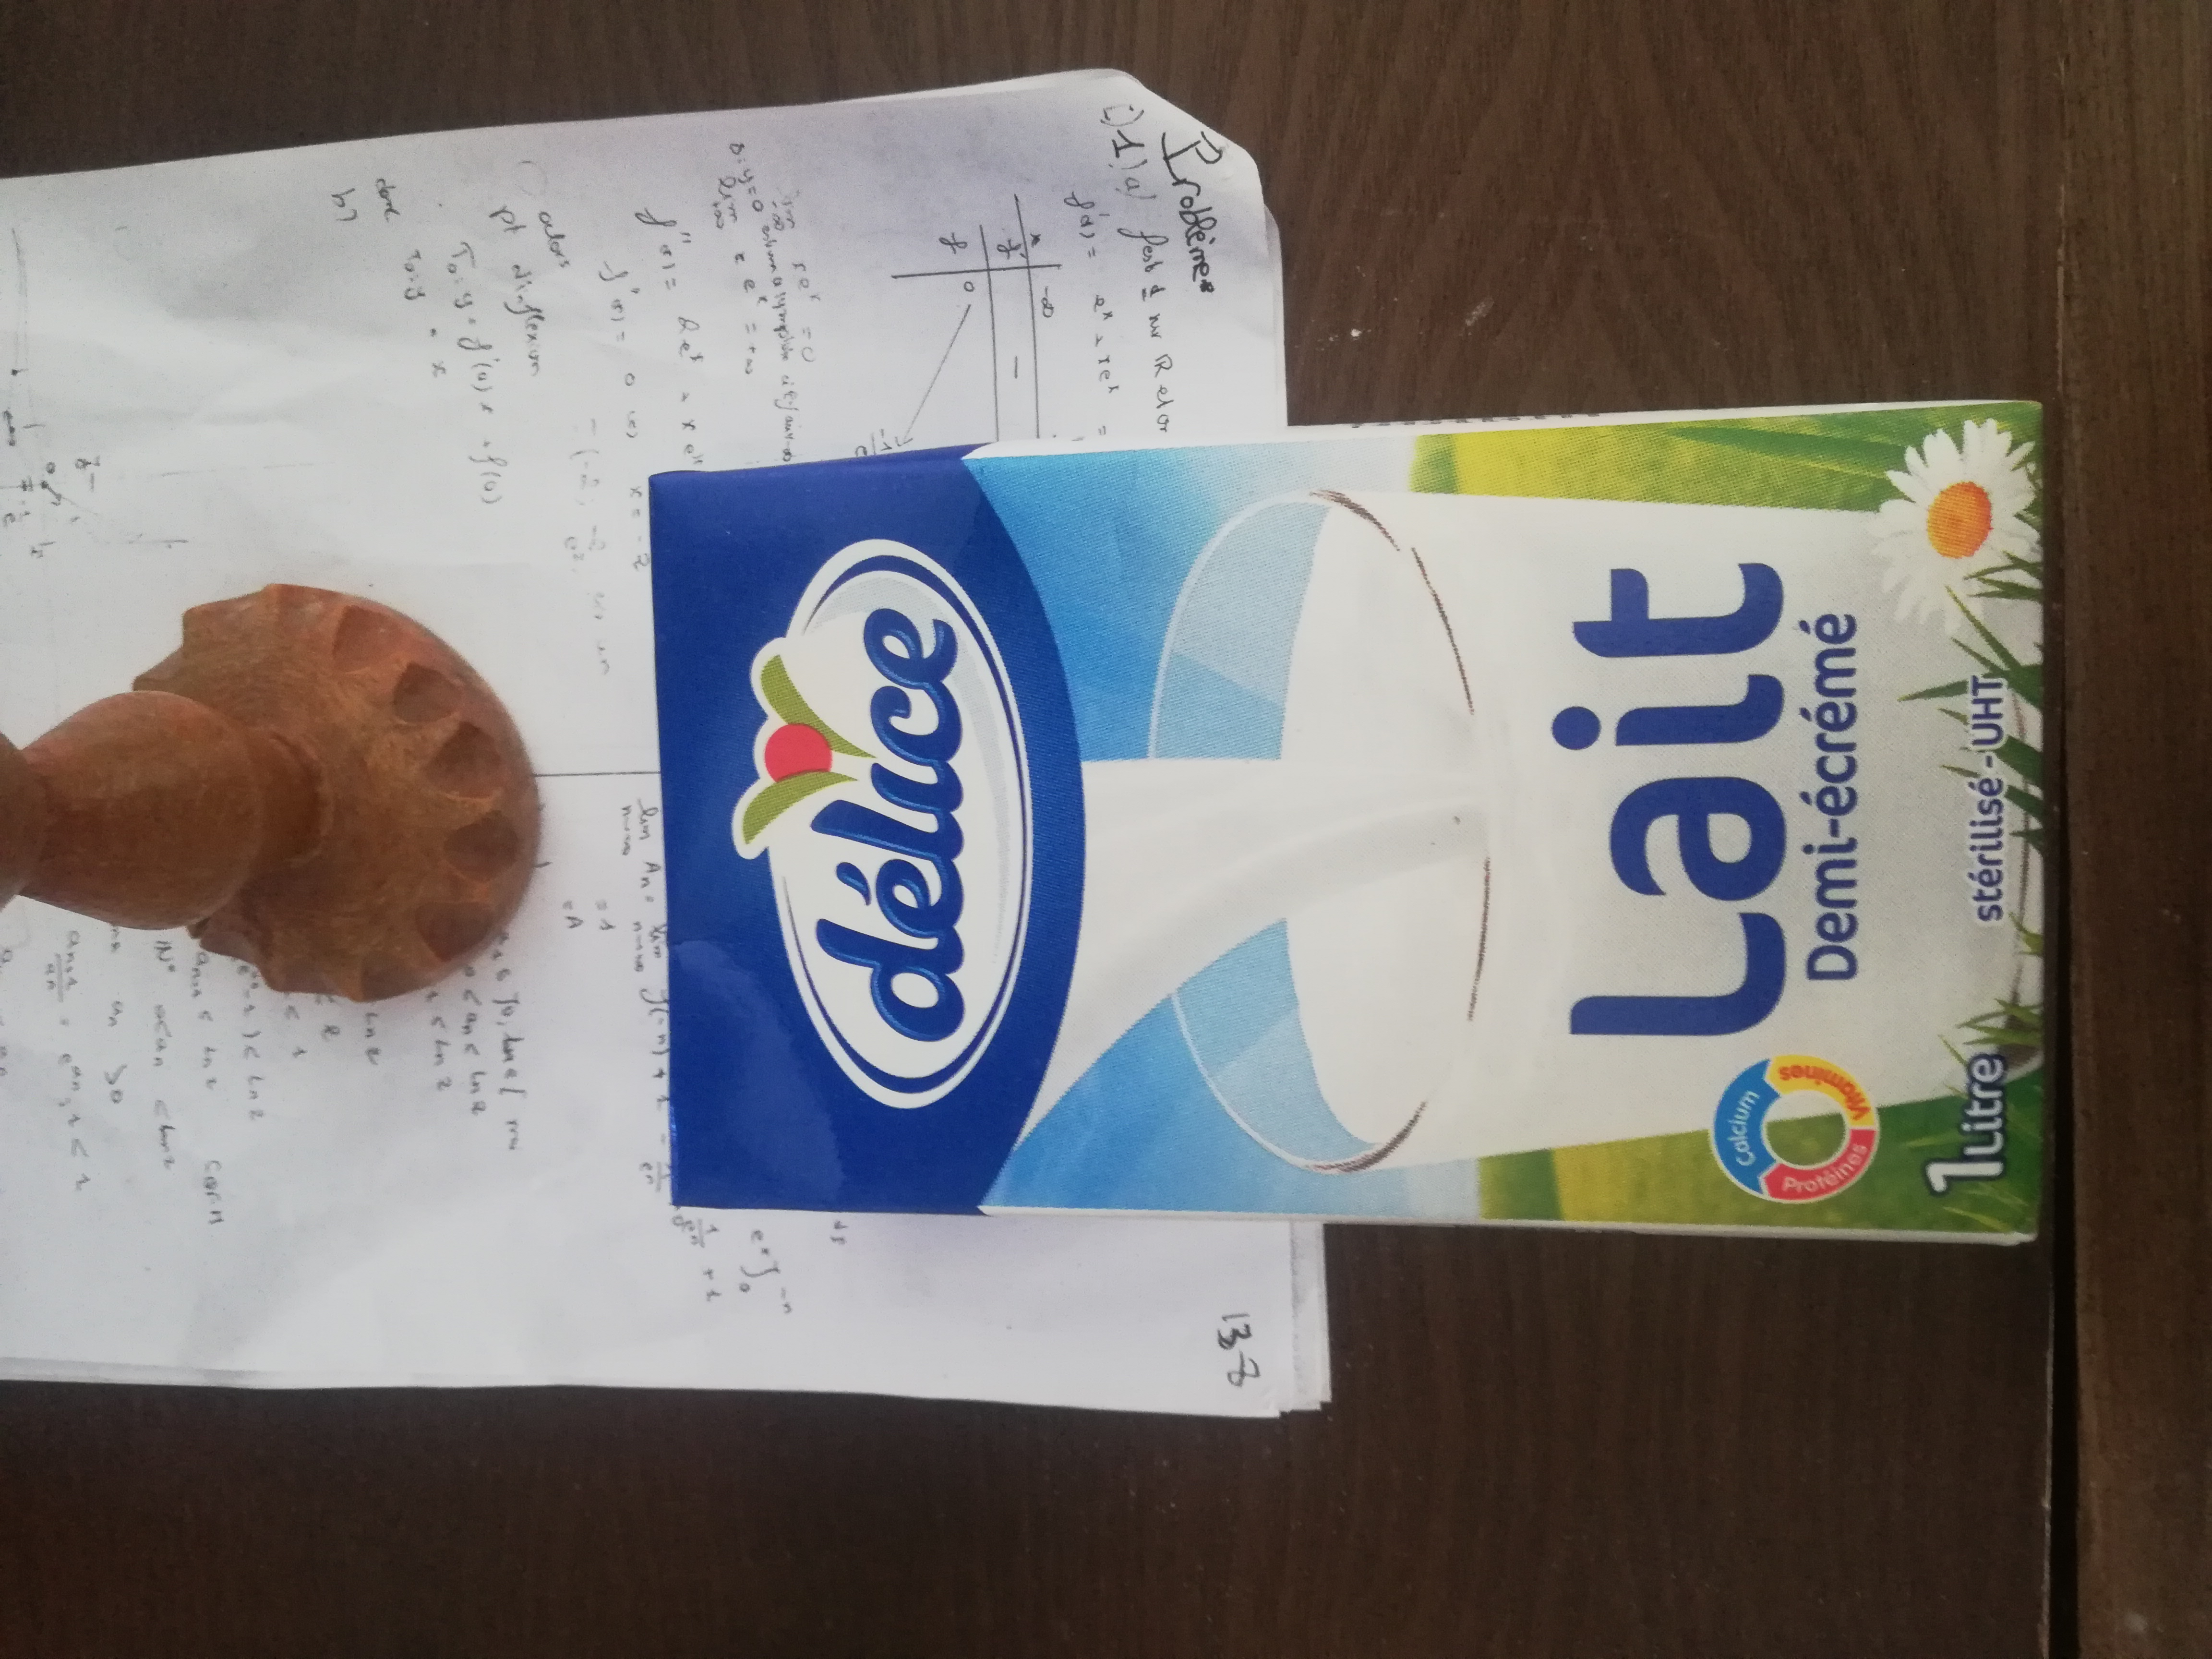Lait delice: (631, 408, 2060, 1253)
